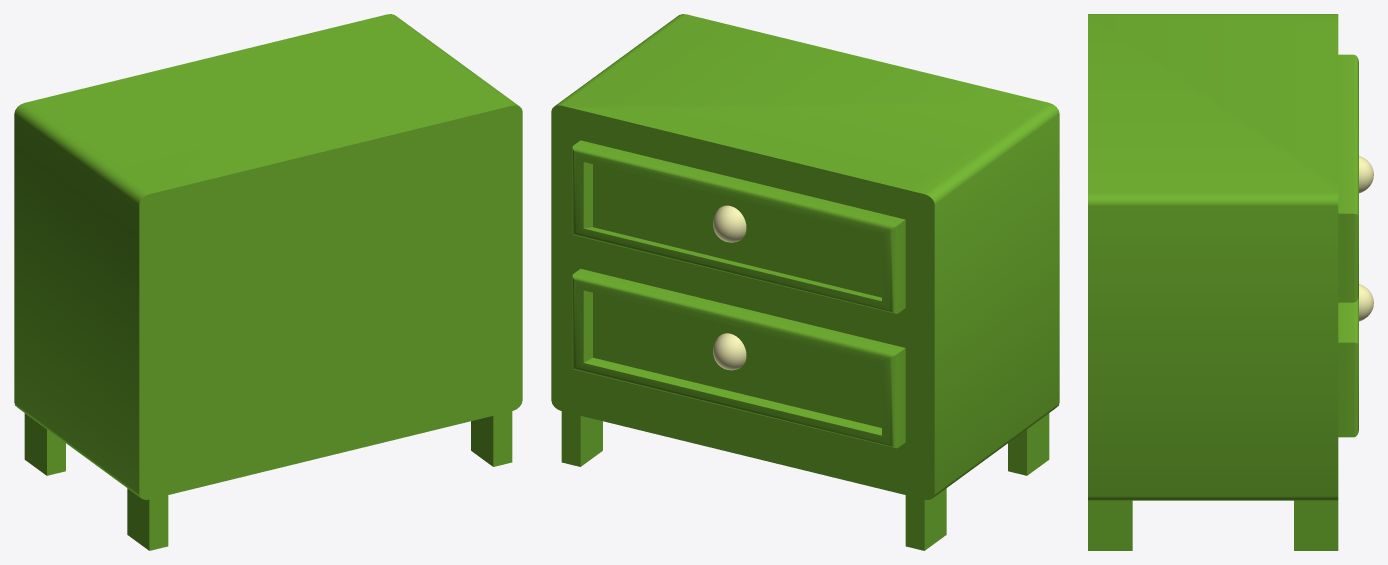
File: dolap_.fbx
3 views of the same model, side by side, from view 1: azimuth 30°, elevation 25°; view 2: azimuth 150°, elevation 25°; view 3: azimuth 270°, elevation 25° (orthographic).
Parts seen in each view (by area): view 1: dolap, dolap_4, dolap_6, dolap_3; view 2: dolap, dolap_2, dolap_1, dolap_3, dolap_8, dolap_5, dolap_4; view 3: dolap, dolap_1, dolap_2, dolap_6, dolap_5, dolap_8.
Part boxes in pixels (x1=…): dolap: x1=14, y1=14, x2=522, y2=499; dolap_4: x1=127, y1=488, x2=168, y2=550; dolap_6: x1=471, y1=411, x2=512, y2=466; dolap_3: x1=24, y1=413, x2=65, y2=475; dolap: x1=551, y1=14, x2=1059, y2=499; dolap_2: x1=572, y1=268, x2=905, y2=448; dolap_1: x1=572, y1=140, x2=905, y2=313; dolap_3: x1=905, y1=488, x2=946, y2=550; dolap_8: x1=713, y1=205, x2=746, y2=370; dolap_5: x1=561, y1=411, x2=602, y2=466; dolap_4: x1=1008, y1=413, x2=1049, y2=475; dolap: x1=1088, y1=14, x2=1338, y2=500; dolap_1: x1=1338, y1=54, x2=1358, y2=302; dolap_2: x1=1338, y1=296, x2=1358, y2=437; dolap_6: x1=1088, y1=500, x2=1132, y2=550; dolap_5: x1=1294, y1=500, x2=1338, y2=550; dolap_8: x1=1359, y1=156, x2=1373, y2=321.
Bounding box in the file's own units: 355 × 315 × 228.
1 material, 1 textured.
